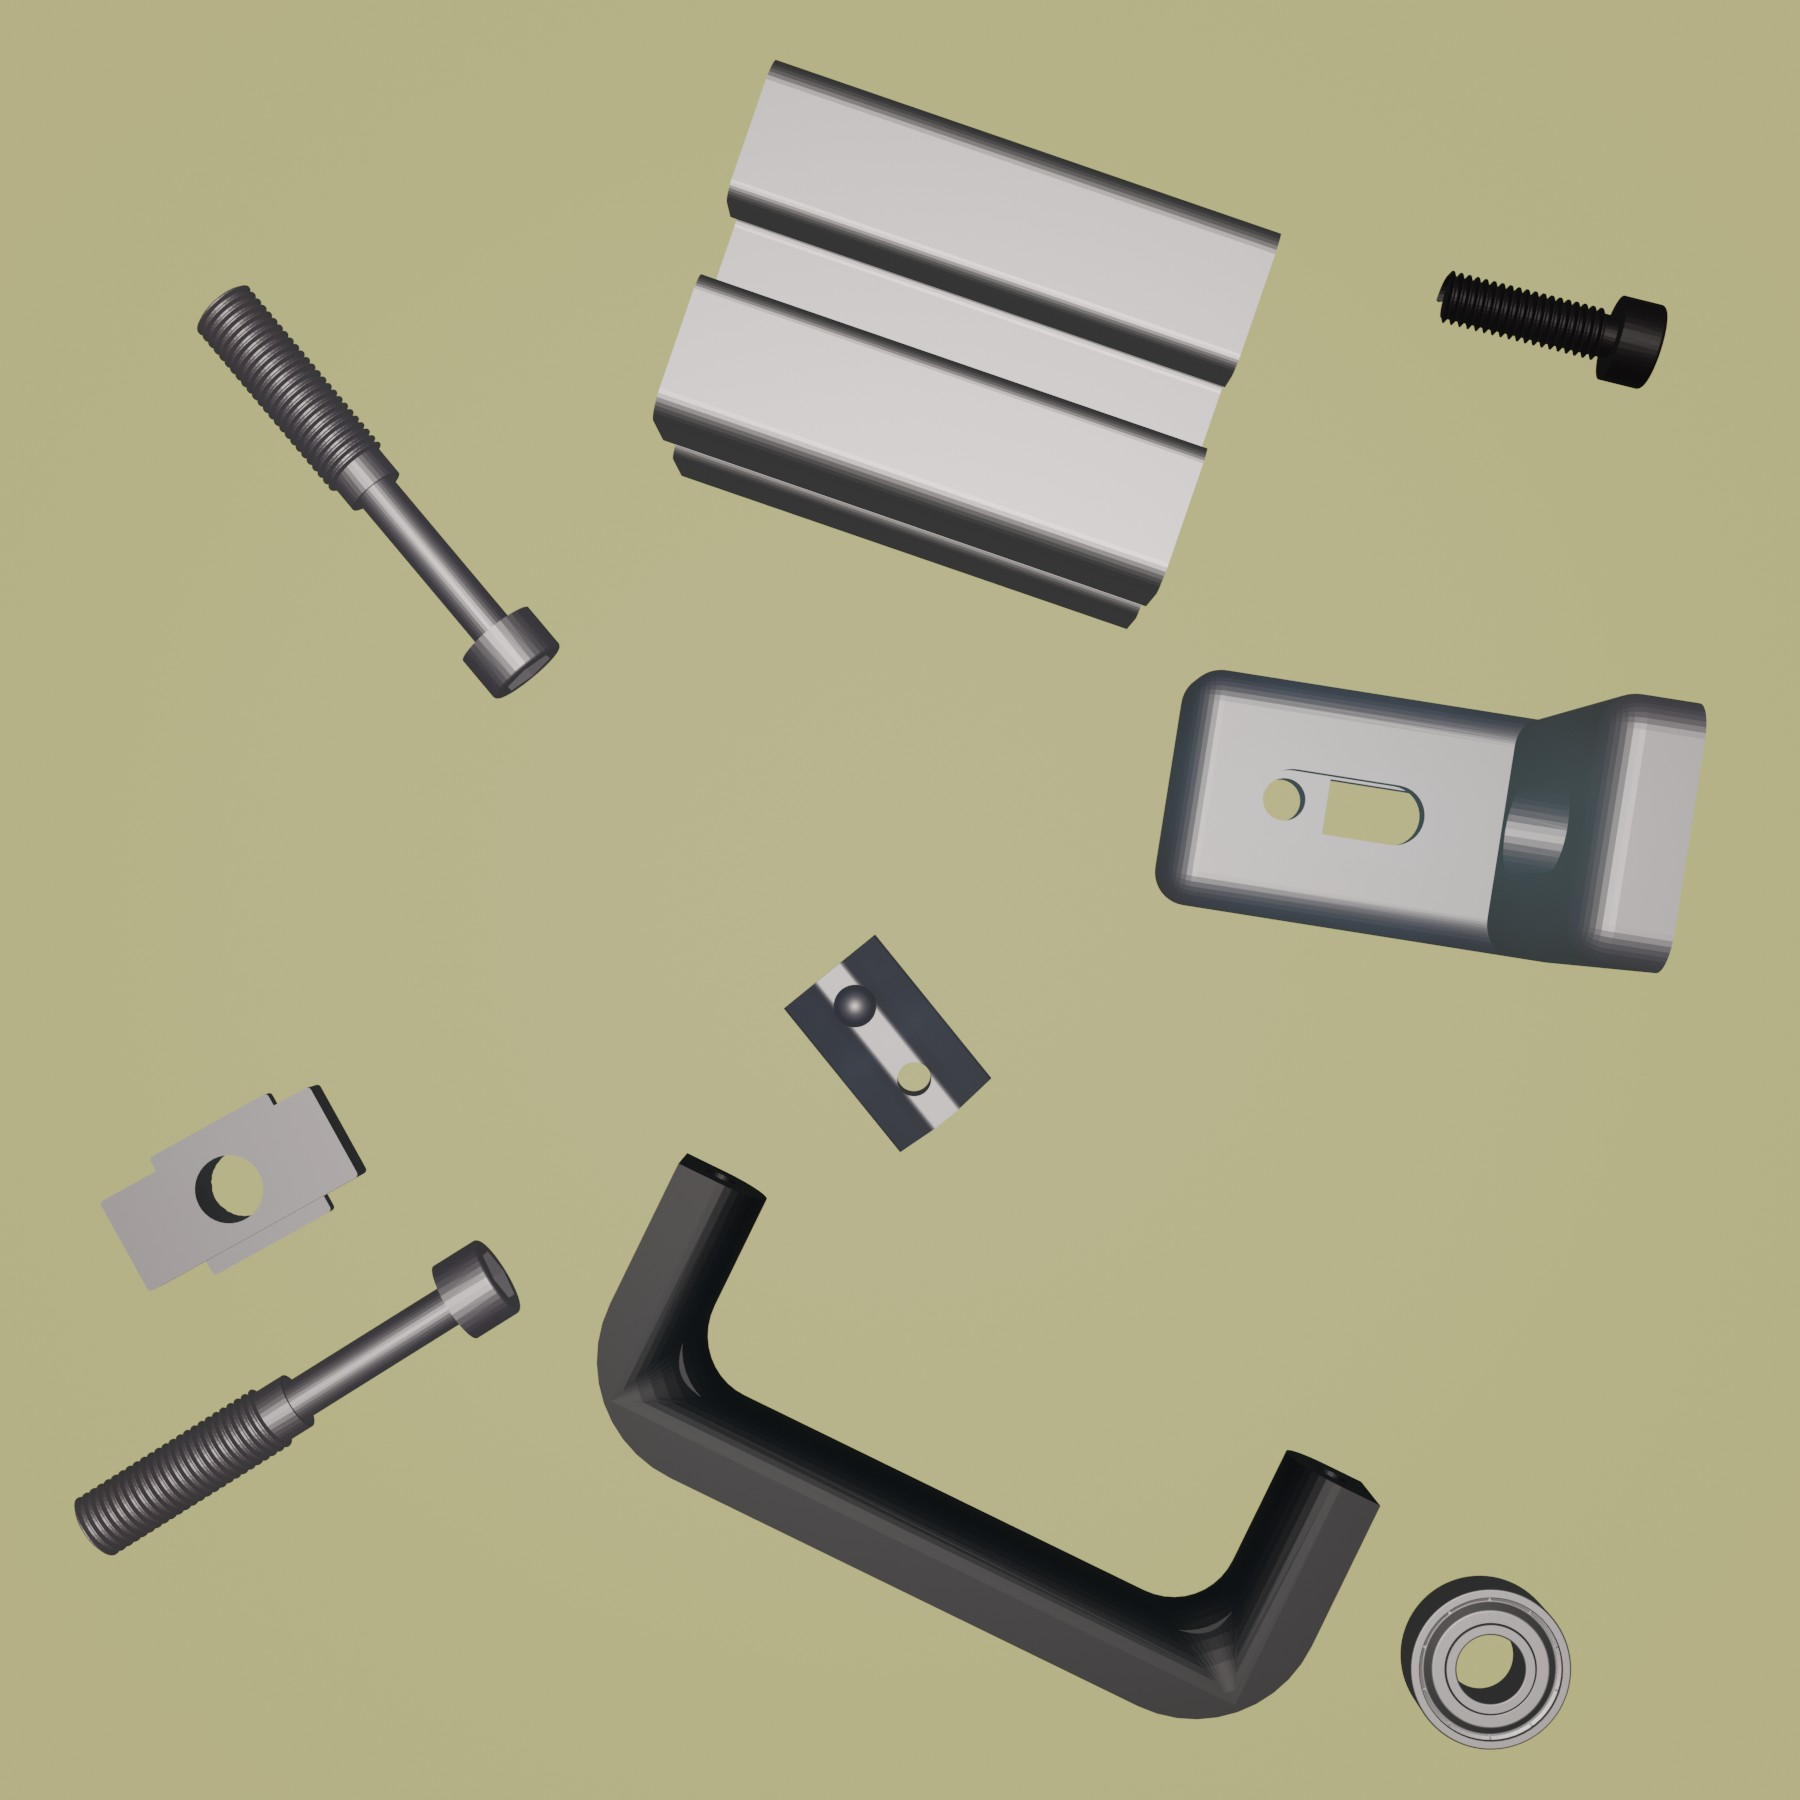Aluminium Extension: (651, 59, 1282, 631)
Ball Bearing: (1398, 1573, 1574, 1752)
Multiwinkel: (1152, 664, 1708, 977)
Pull Handle: (593, 1151, 1380, 1723)
Shoulder Socket Head Cap Screw: (195, 280, 562, 701), (74, 1240, 524, 1558)
Socket Head Cap Screw: (1436, 265, 1670, 391)
T Nut Square: (96, 1080, 371, 1296)
T Spring Nut: (781, 928, 992, 1154)
